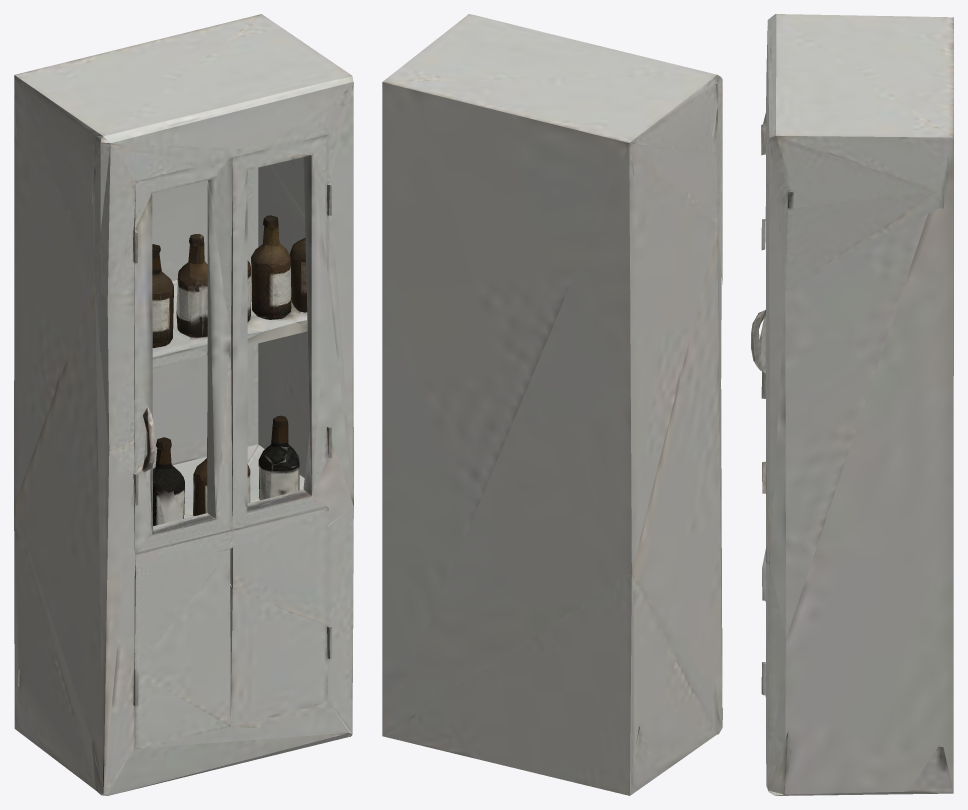
Rendered from armario-laboratorio.glb.
3 renders of one model, left to right at view 1: azimuth 30°, elevation 25°; view 2: azimuth 150°, elevation 25°; view 3: azimuth 270°, elevation 25°, orthographic.
Bounding box in the file's own units: 0.7688 × 1.9 × 0.5284.
1 material, 1 textured.
